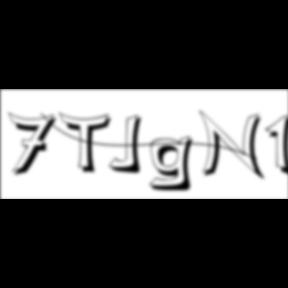7: (8, 111, 62, 179)
J: (110, 114, 148, 176)
N: (199, 109, 269, 183)
T: (59, 112, 117, 176)
g: (149, 134, 201, 194)
